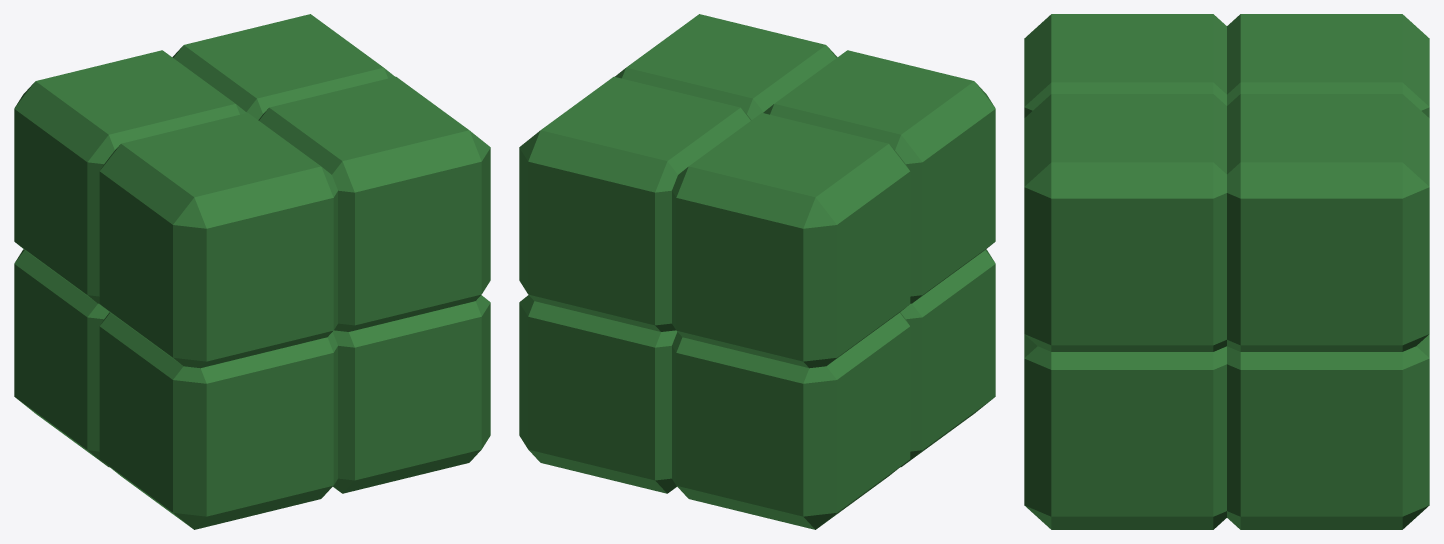
The model's file is m_kub_dung_compo_miniCubes.fbx.
3 views of the same model, side by side, from view 1: azimuth 30°, elevation 25°; view 2: azimuth 150°, elevation 25°; view 3: azimuth 270°, elevation 25° (orthographic). The views are drawn at different scales.
Parts seen in each view (by area): view 1: m_kub_dung_compo_miniCubes; view 2: m_kub_dung_compo_miniCubes; view 3: m_kub_dung_compo_miniCubes.
Boxes of the visible parts, x1,y1,x2,y2 form: m_kub_dung_compo_miniCubes: [14, 14, 490, 529]; m_kub_dung_compo_miniCubes: [519, 14, 995, 529]; m_kub_dung_compo_miniCubes: [1024, 14, 1429, 529].
Bounding box in the file's own units: 2.15 × 2.15 × 2.15.
